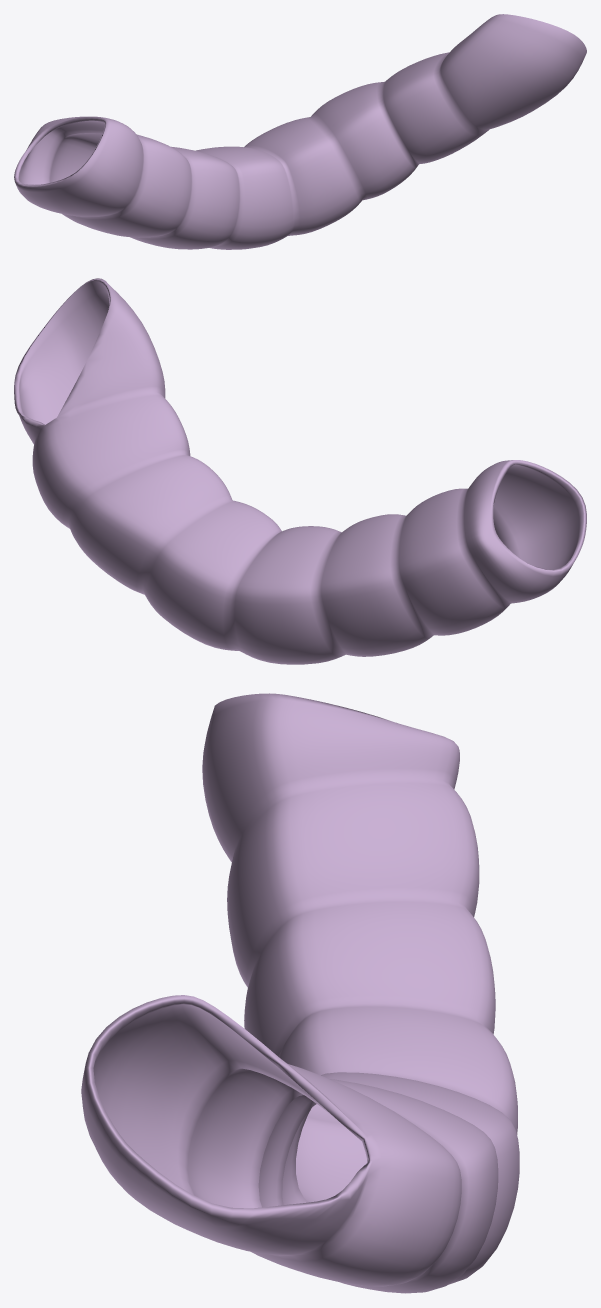
3 renders of one model, top to bottom at view 1: azimuth 30°, elevation 25°; view 2: azimuth 150°, elevation 25°; view 3: azimuth 270°, elevation 25°, orthographic. The views are drawn at different scales.
Visible parts, largest first — view 1: 横结肠; view 2: 横结肠; view 3: 横结肠.
Part boxes in pixels (box(x1,y1,x2,y2)): 横结肠: box(14, 14, 586, 249); 横结肠: box(14, 278, 586, 664); 横结肠: box(81, 693, 519, 1293).
Size of the model in its own units: 0.2747 by 0.111 by 0.1007.
